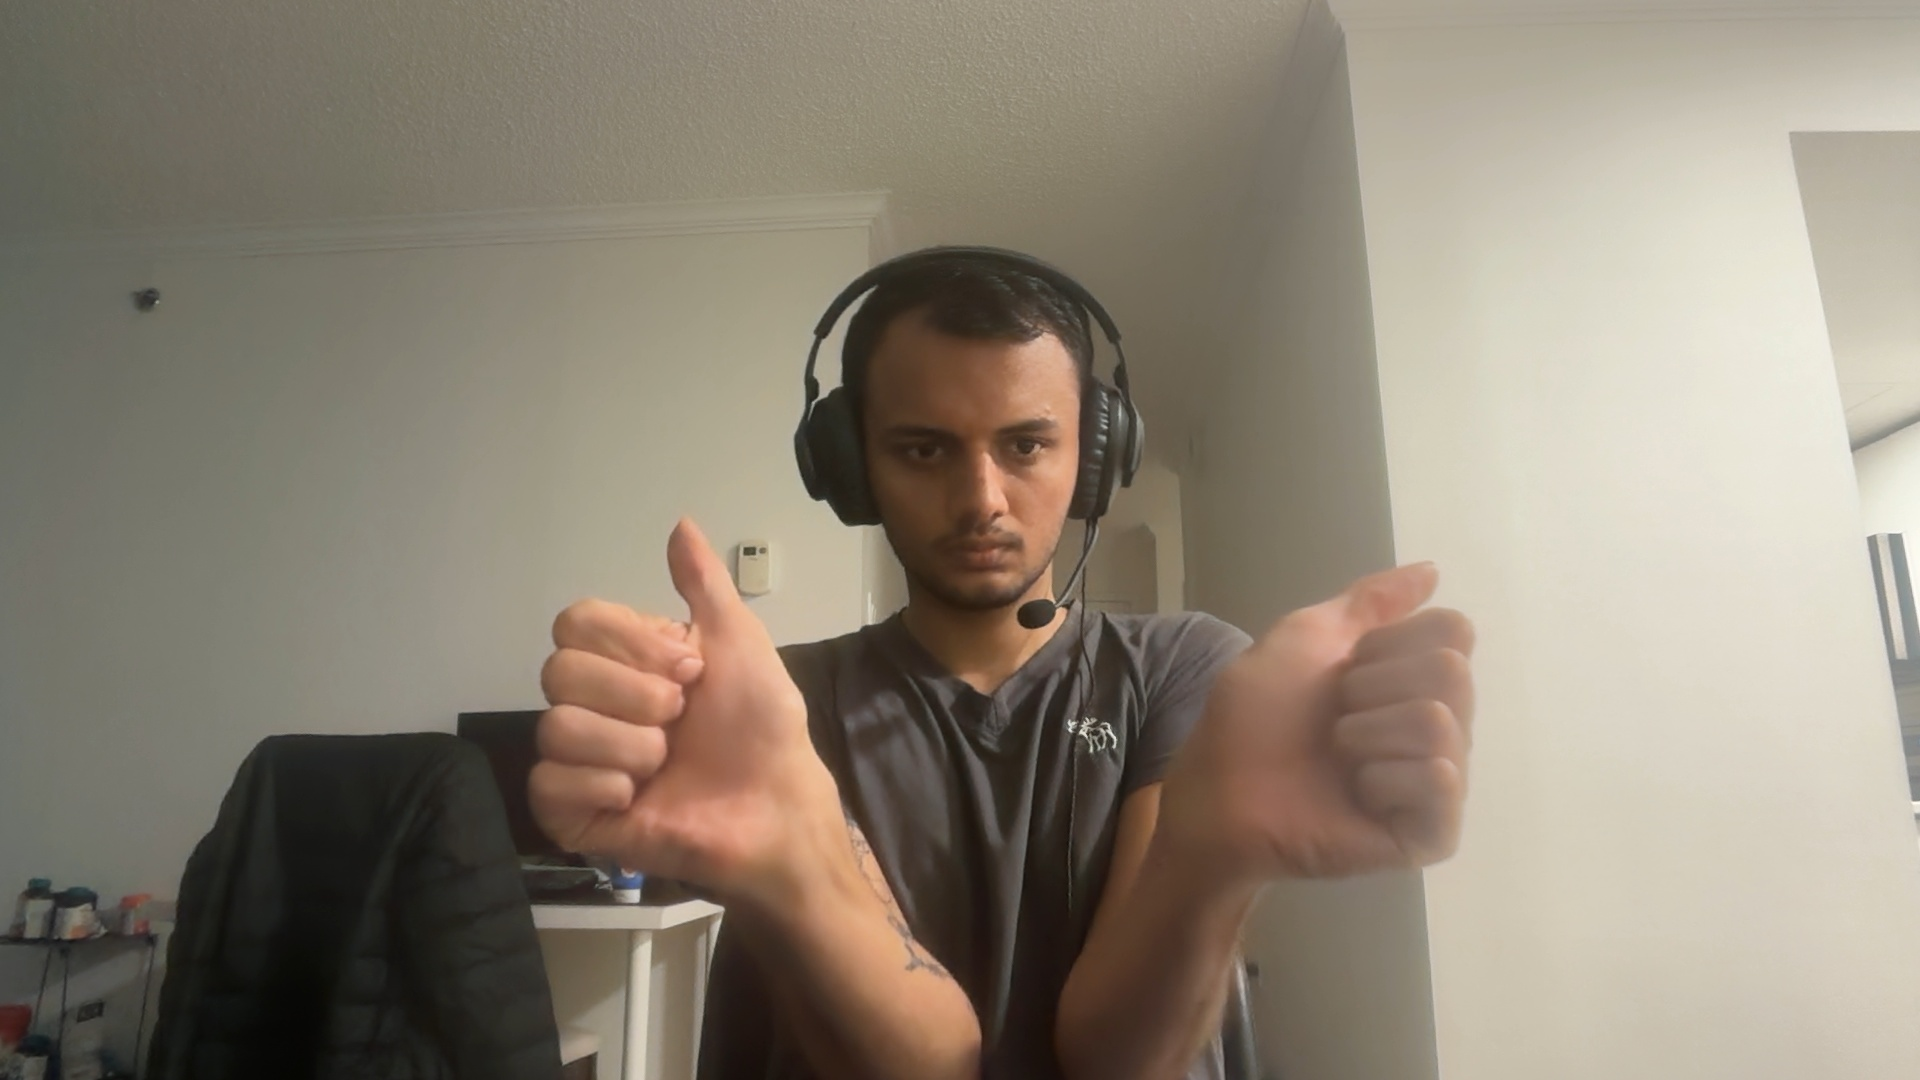thumbsup: (527, 516, 808, 899)
